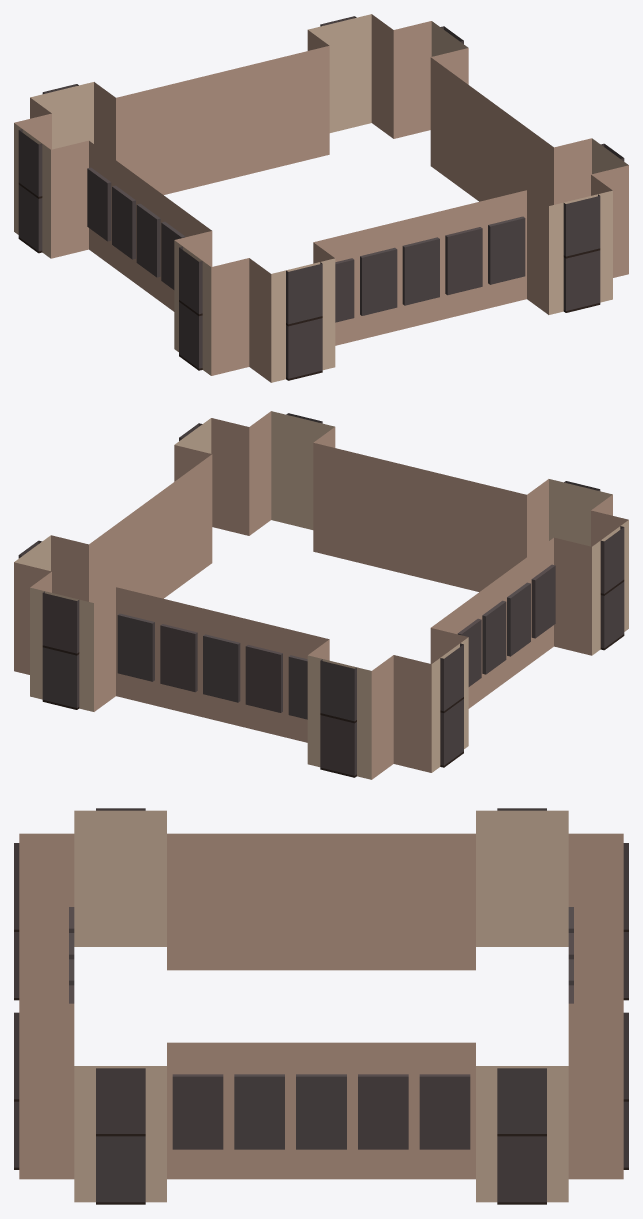
Rendered from TB_CITY_Skysc_I_BodyA_Brown.FBX.
The picture shows the model from 3 angles, top to bottom: view 1: azimuth 30°, elevation 25°; view 2: azimuth 150°, elevation 25°; view 3: azimuth 270°, elevation 25°; orthographic projection. The views are drawn at different scales.
Visible parts, largest first — view 1: TB_CITY_Skysc_I_BodyA_Brown; view 2: TB_CITY_Skysc_I_BodyA_Brown; view 3: TB_CITY_Skysc_I_BodyA_Brown.
Part boxes in pixels (box(x1,y1,x2,y2)): TB_CITY_Skysc_I_BodyA_Brown: box(14, 14, 628, 382); TB_CITY_Skysc_I_BodyA_Brown: box(14, 411, 628, 779); TB_CITY_Skysc_I_BodyA_Brown: box(14, 808, 628, 1204).
Size of the model in its own units: 22.4 by 5.49 by 22.4.
